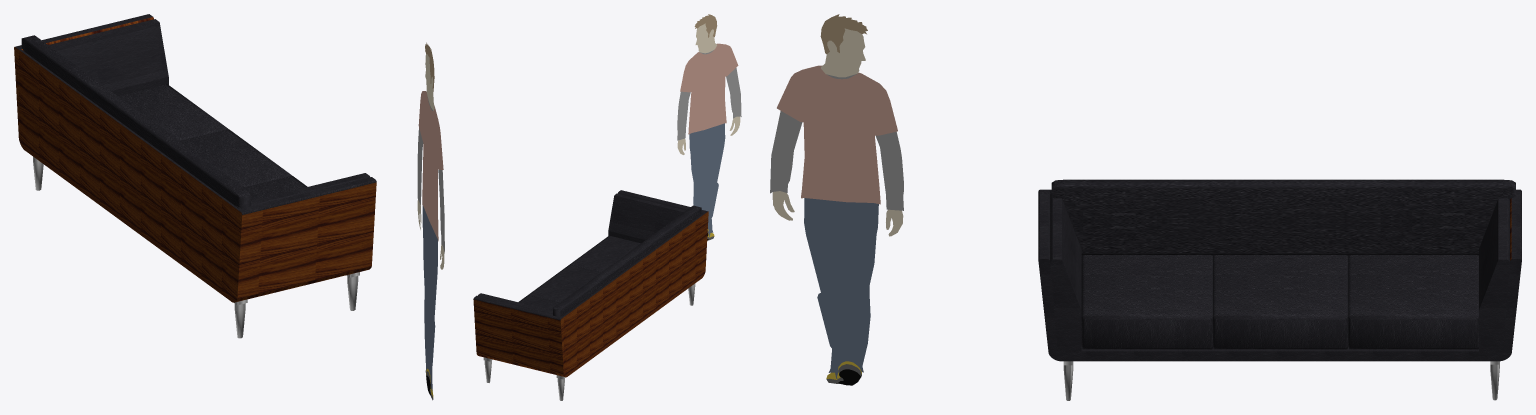
The model's file is divano.glb.
The picture shows the model from 3 angles, left to right: view 1: azimuth 30°, elevation 25°; view 2: azimuth 150°, elevation 25°; view 3: azimuth 270°, elevation 25°; orthographic projection. The views are drawn at different scales.
Visible parts, largest first — view 1: object 15, half (×4), object 14, Bryce; view 2: object 15, Bryce, half (×4), object 14; view 3: half (×8), Bryce, object 15, object 14.
Boxes of the visible parts, x1,y1,x2,y2 form: object 15: (14, 14, 376, 302); half (×4): (21, 35, 307, 208); object 14: (24, 19, 369, 208); Bryce: (417, 42, 444, 400); object 15: (473, 190, 708, 377); Bryce: (677, 14, 741, 240); half (×4): (518, 205, 701, 317); object 14: (477, 193, 701, 316); half (×8): (1051, 179, 1515, 349); Bryce: (770, 14, 903, 385); object 15: (1038, 189, 1521, 361); object 14: (1050, 193, 1509, 351).
Bounding box in the file's own units: 0.7283 × 1.81 × 3.33.
Materials: 13 (5 with a texture image).
